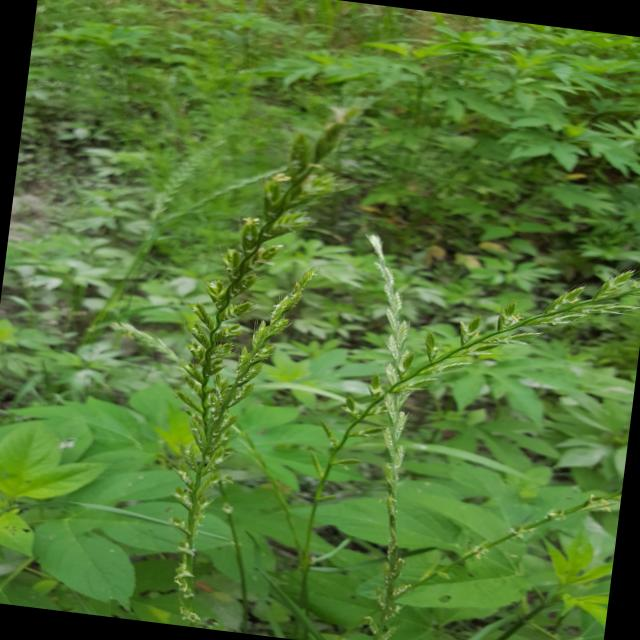Lolium: (134, 84, 368, 637), (327, 245, 640, 495), (170, 266, 310, 636), (328, 226, 431, 499)
